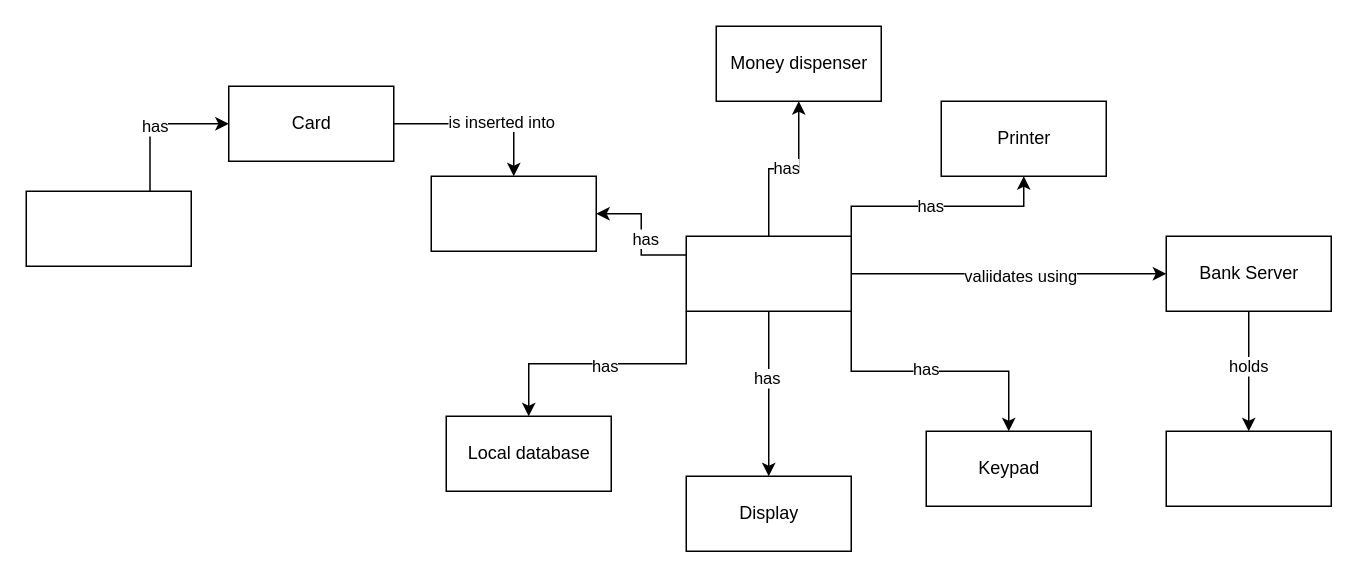
The diagram is 1358 pixels wide and 578 high, and some of its shapes have lost their labels. The box of each missing label's shape, as (x1, y1, x2, y2) in pixels:
Account Information: (1165, 430, 1331, 506)
ATM: (685, 235, 851, 311)
Card reader: (430, 175, 596, 251)
Customer: (25, 190, 191, 266)
